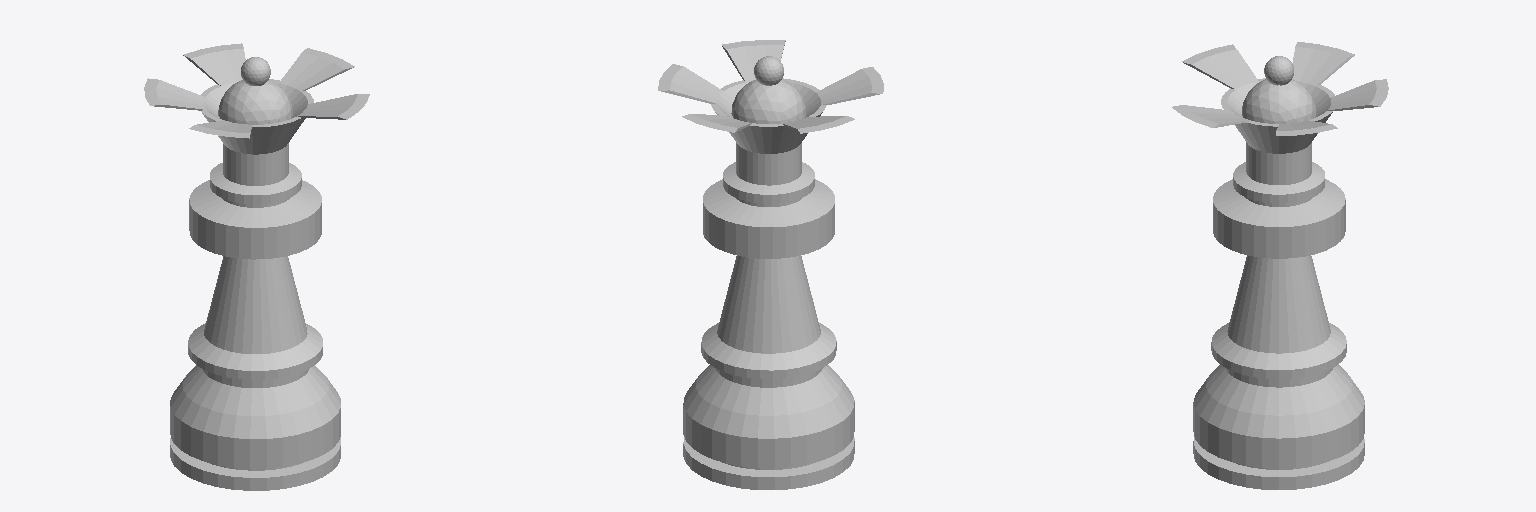
Rendered from Queen_White.obj.
3 renders of one model, left to right at view 1: azimuth 30°, elevation 25°; view 2: azimuth 150°, elevation 25°; view 3: azimuth 270°, elevation 25°, orthographic.
Visible parts, largest first — view 1: ChessQueen; view 2: ChessQueen; view 3: ChessQueen.
Boxes of the visible parts, x1=… form: ChessQueen: x1=144, y1=43, x2=369, y2=490; ChessQueen: x1=658, y1=40, x2=883, y2=489; ChessQueen: x1=1172, y1=42, x2=1388, y2=489.
Size of the model in its own units: 1.29 by 2.51 by 1.25.